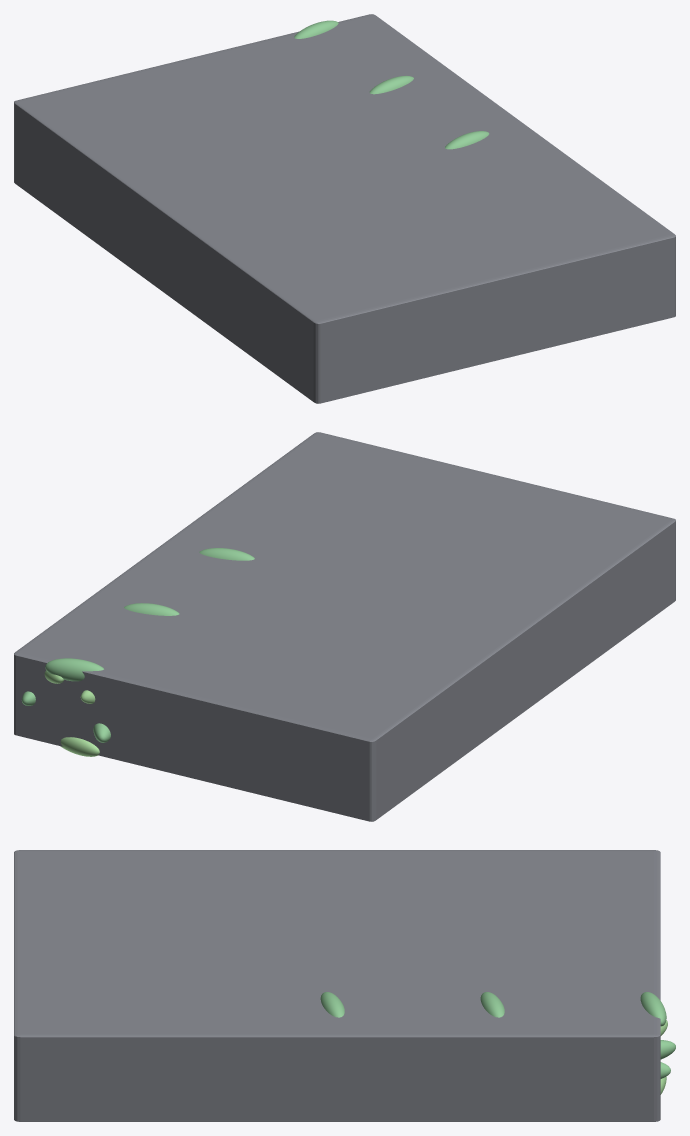
File: bookshelf.glb
The picture shows the model from 3 angles, top to bottom: view 1: azimuth 30°, elevation 25°; view 2: azimuth 150°, elevation 25°; view 3: azimuth 270°, elevation 25°; orthographic projection. The views are drawn at different scales.
Parts seen in each view (by area): view 1: frame; view 2: frame, leaf_2.002; view 3: frame, leaf_2.002, leaf_2, leaf_2.001.
Boxes of the visible parts, <box> form: frame: <box>14,14,675,403</box>; frame: <box>14,432,675,821</box>; leaf_2.002: <box>45,658,103,681</box>; frame: <box>14,850,660,1121</box>; leaf_2.002: <box>640,992,666,1026</box>; leaf_2: <box>320,992,344,1017</box>; leaf_2.001: <box>480,992,504,1017</box>.
Size of the model in its own units: 1.3 by 0.3193 by 1.95.
